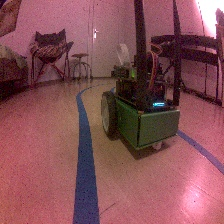rob: (99, 53, 180, 151)
